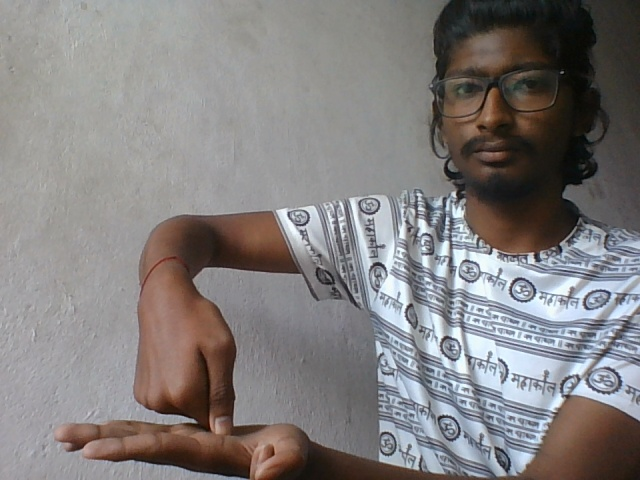What: (47, 272, 307, 480)
